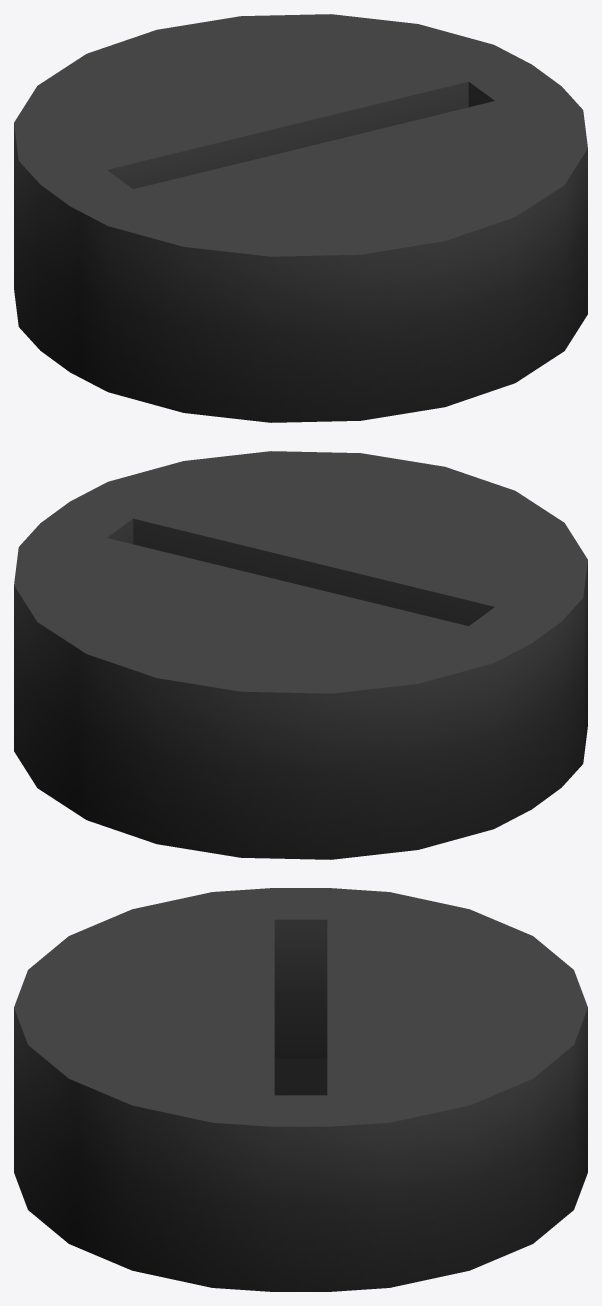
The model's file is serratura_int.fbx.
3 views of the same model, one above another, from view 1: azimuth 30°, elevation 25°; view 2: azimuth 150°, elevation 25°; view 3: azimuth 270°, elevation 25° (orthographic).
Parts seen in each view (by area): view 1: serratura_int; view 2: serratura_int; view 3: serratura_int.
Part boxes in pixels (x1,y1,x2,y2): serratura_int: (14, 14, 587, 422); serratura_int: (14, 451, 587, 859); serratura_int: (14, 888, 587, 1291).
Bounding box in the file's own units: 2.49 × 0.8035 × 2.53.
